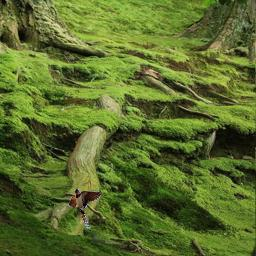Swallow: (68, 189, 101, 229)
